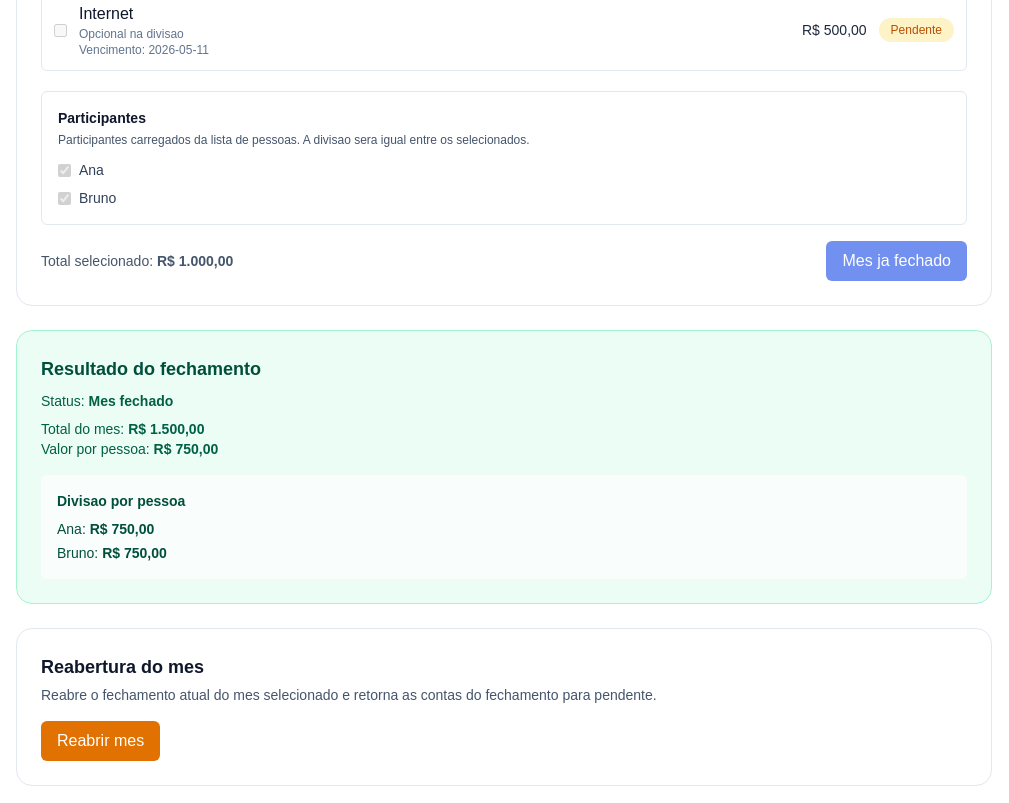
Scenario: MonthlyClosingView › reopens monthly closing and renders reopened status
(page scrolled)
Click the button "Reabrir mes".
click(101, 741)  # box [41, 721, 160, 761]
(page scrolled)
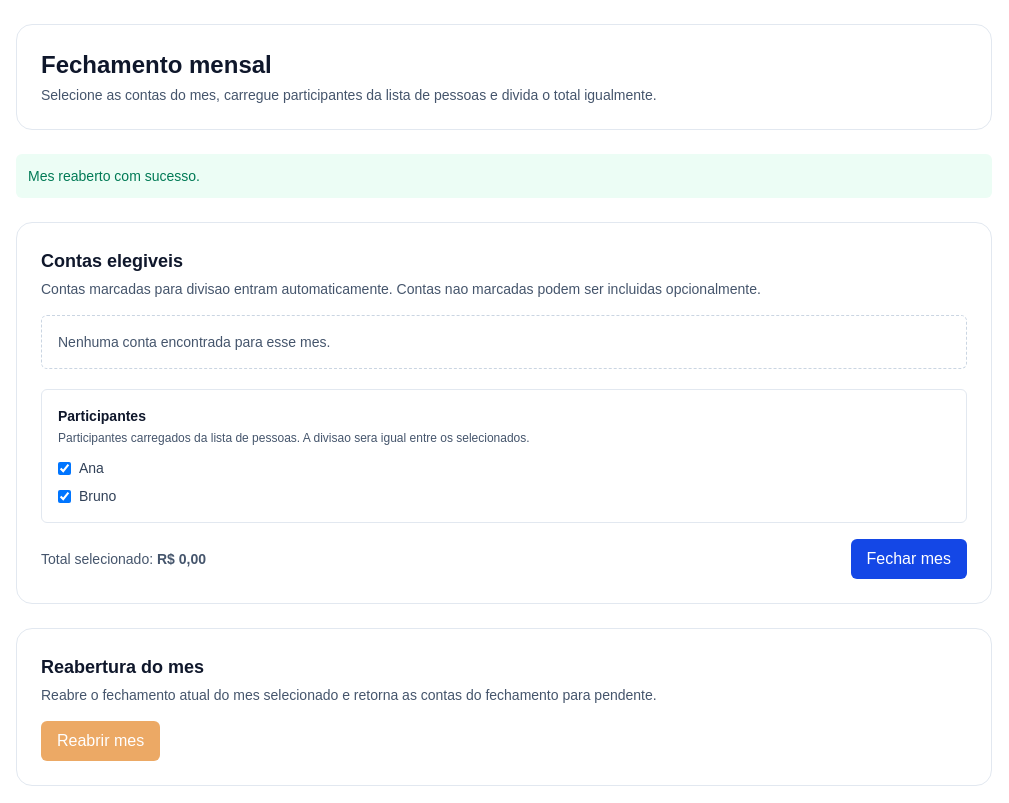
Result: the text "Mes reaberto com sucesso." is shown at [16, 154, 992, 198]
